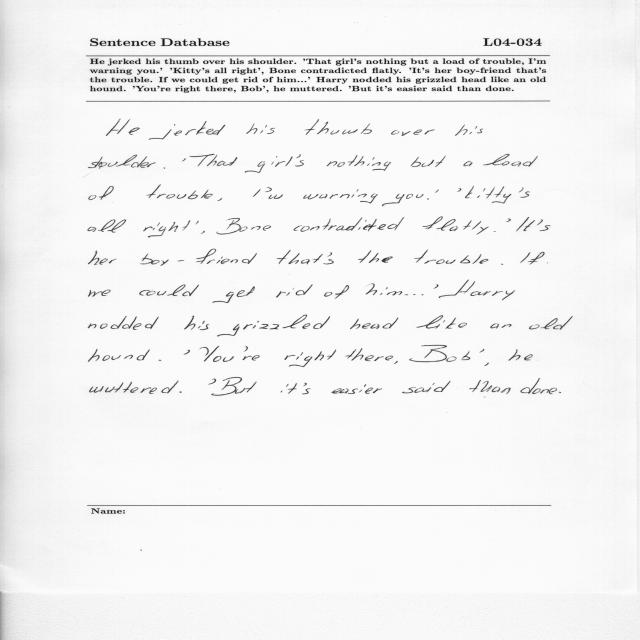word: (217, 315, 330, 336), (140, 249, 257, 266), (294, 217, 405, 232), (439, 280, 515, 300), (149, 121, 225, 140), (90, 380, 179, 394), (423, 217, 489, 234), (304, 119, 372, 135), (303, 189, 378, 203), (326, 155, 391, 171), (410, 345, 471, 362), (415, 250, 489, 264), (146, 185, 213, 200), (88, 316, 159, 330), (89, 155, 156, 169), (285, 349, 336, 367), (216, 218, 271, 234), (211, 377, 257, 396), (144, 220, 191, 238), (245, 156, 293, 173), (88, 349, 150, 362), (212, 286, 255, 303), (483, 154, 538, 167), (417, 315, 467, 329), (139, 285, 199, 296), (189, 154, 237, 167), (529, 316, 573, 330), (477, 186, 511, 204), (346, 348, 393, 361), (402, 381, 451, 393), (469, 380, 511, 394), (106, 119, 140, 136), (521, 378, 557, 394), (200, 346, 234, 362), (350, 318, 398, 329), (331, 384, 382, 394), (382, 194, 424, 206), (88, 220, 126, 233), (276, 284, 313, 297), (277, 250, 310, 264), (358, 250, 393, 263), (366, 284, 402, 296), (89, 251, 117, 265), (411, 156, 446, 167), (521, 252, 548, 265), (89, 186, 114, 200), (324, 285, 349, 299), (184, 316, 209, 330), (246, 123, 275, 134), (455, 125, 483, 136), (516, 217, 535, 231), (391, 130, 435, 136), (509, 350, 533, 361), (313, 253, 334, 265), (242, 347, 260, 361), (265, 187, 283, 199), (281, 383, 297, 394), (537, 219, 550, 231), (89, 290, 111, 297), (427, 190, 439, 200), (295, 154, 304, 167), (519, 188, 530, 198), (465, 186, 474, 198), (491, 324, 512, 329), (302, 383, 311, 394), (253, 189, 260, 197), (208, 379, 216, 385), (464, 161, 473, 166), (184, 350, 190, 355), (434, 284, 438, 289), (405, 294, 424, 295), (458, 188, 462, 192), (217, 198, 222, 201), (506, 219, 511, 222), (480, 349, 485, 352), (484, 363, 489, 366), (182, 158, 186, 161), (196, 221, 199, 225), (201, 231, 205, 234), (394, 361, 398, 364), (179, 391, 182, 393), (493, 231, 496, 232), (159, 360, 162, 361), (164, 167, 165, 169), (501, 264, 503, 265), (559, 392, 561, 393)
